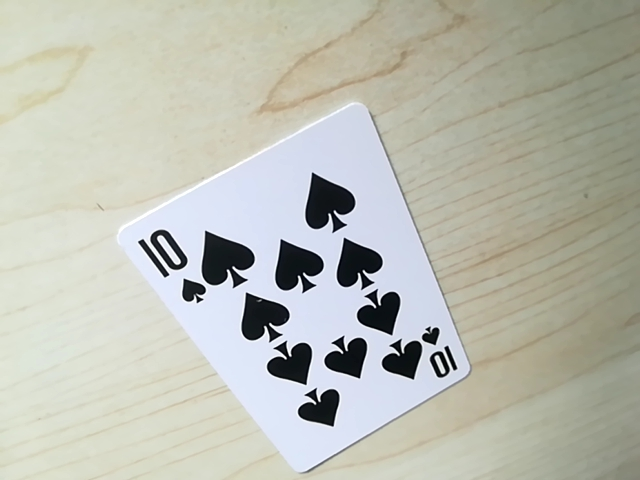ht 10: (137, 223, 197, 300), (414, 334, 463, 380)
